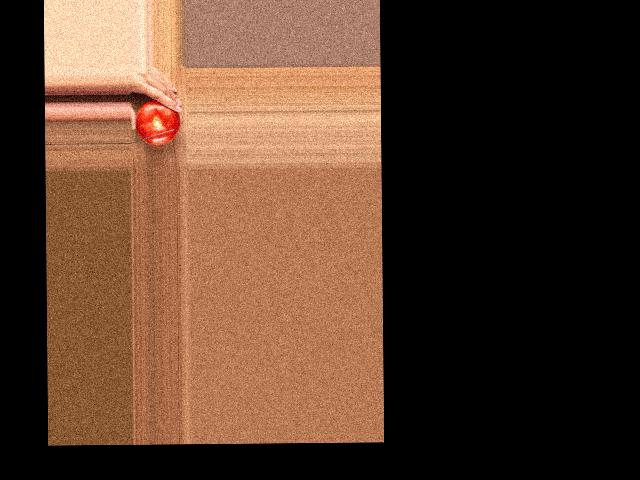tomato: (135, 99, 180, 145)
